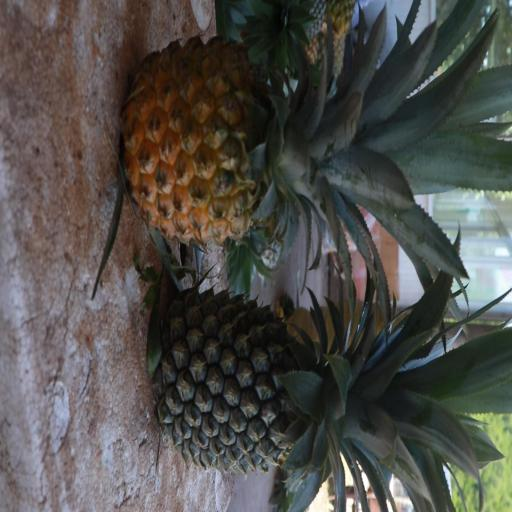Pineapple - v8 v1: (119, 38, 441, 244)
